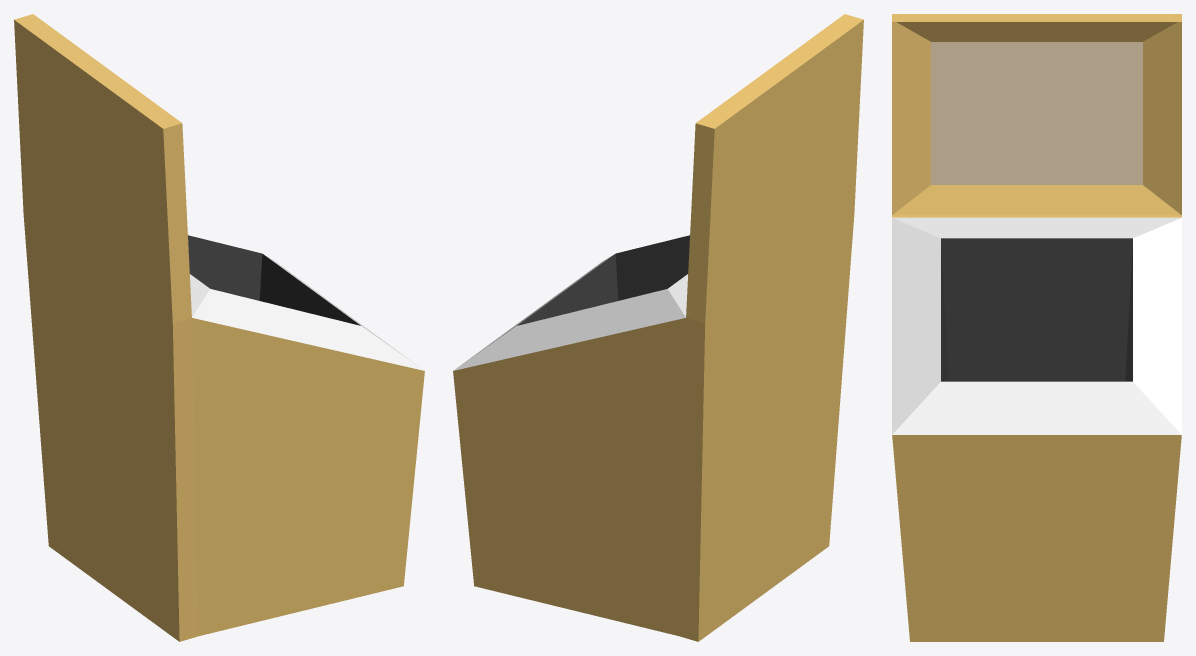
File: Yellow_tube.fbx
The picture shows the model from 3 angles, left to right: view 1: azimuth 30°, elevation 25°; view 2: azimuth 150°, elevation 25°; view 3: azimuth 270°, elevation 25°; orthographic projection. The views are drawn at different scales.
Parts seen in each view (by area): view 1: Cube.004; view 2: Cube.004; view 3: Cube.004.
Boxes of the visible parts, box(x1,y1,x2,y2) form: Cube.004: box(14, 14, 424, 641); Cube.004: box(453, 14, 863, 641); Cube.004: box(892, 14, 1181, 641).
Size of the model in its own units: 231 by 445 by 228.
